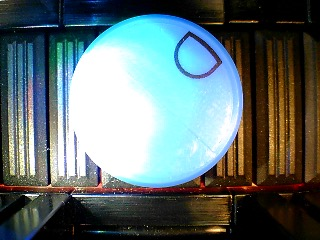MIPO1: (67, 14, 243, 188)
